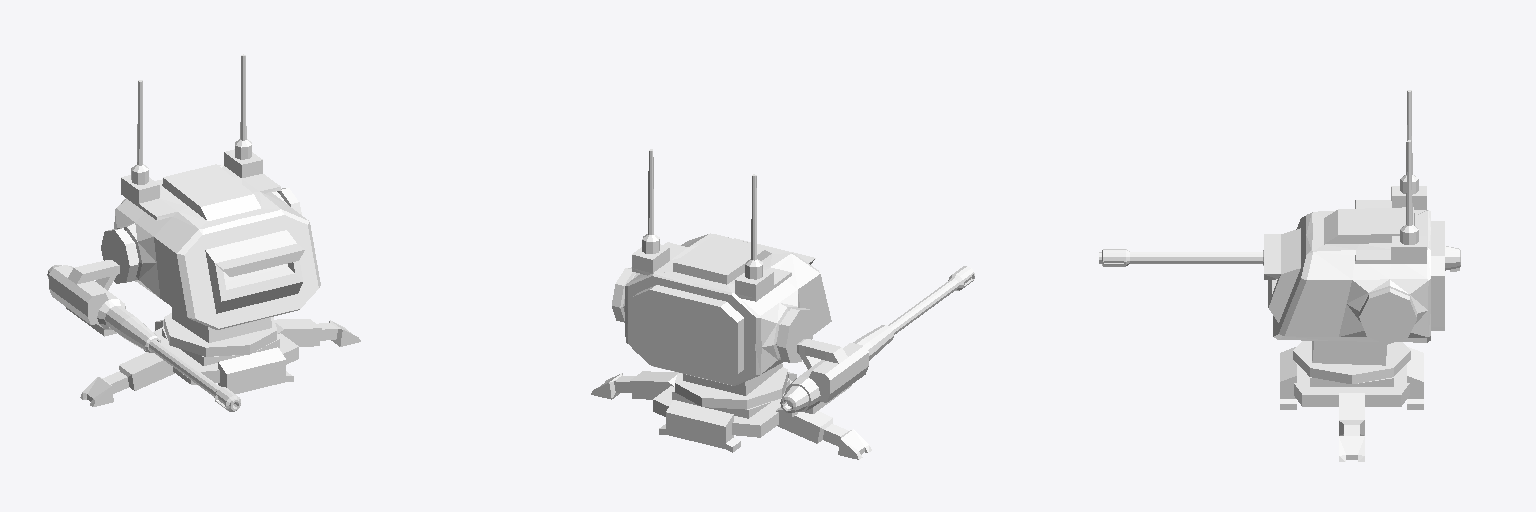
3 renders of one model, left to right at view 1: azimuth 30°, elevation 25°; view 2: azimuth 150°, elevation 25°; view 3: azimuth 270°, elevation 25°, orthographic.
Visible parts, largest first — view 1: Body; view 2: Body; view 3: Body.
Boxes of the visible parts, <box> form: Body: <box>47,54,360,411</box>; Body: <box>591,149,974,459</box>; Body: <box>1099,90,1460,461</box>.
Bounding box in the file's own units: 75.56 × 75.24 × 88.05.